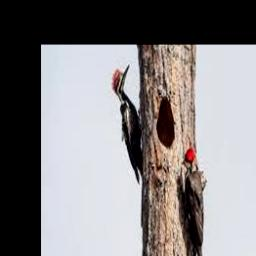Woodpecker: (111, 62, 143, 183), (181, 147, 204, 256)
